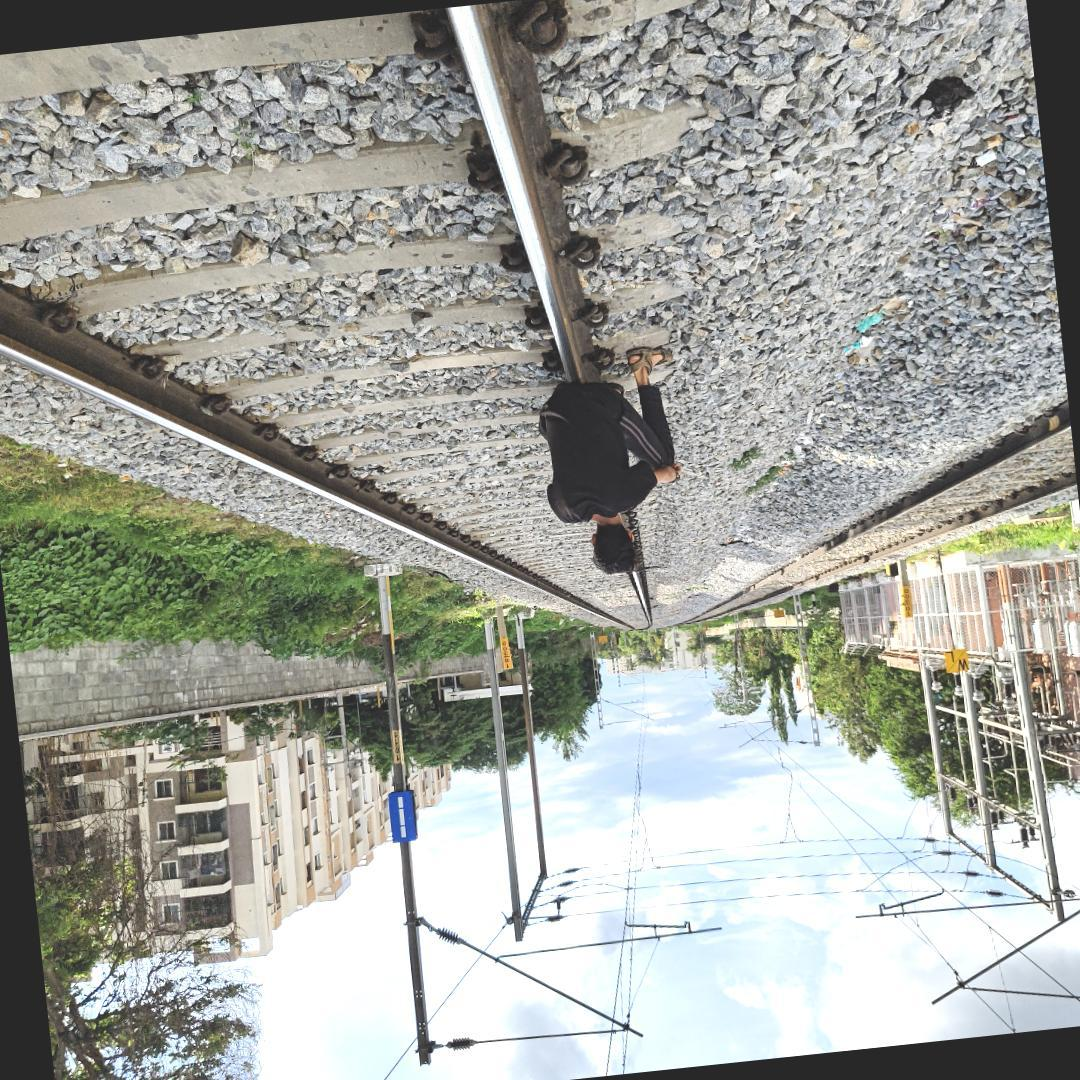sitting: (519, 326, 699, 590)
